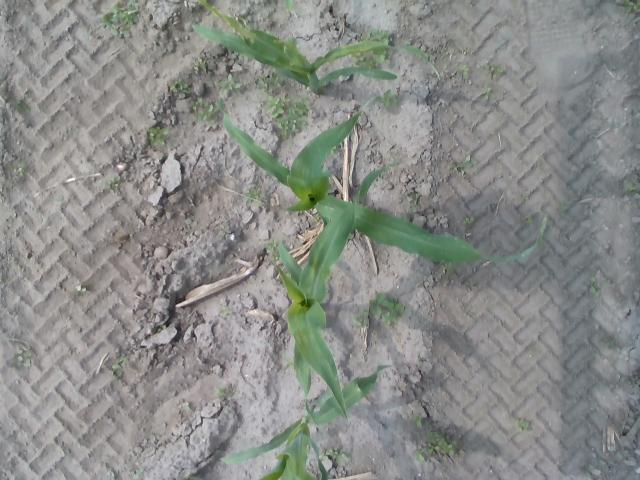Maize: (220, 98, 550, 264), (190, 0, 442, 95), (274, 188, 360, 425), (221, 364, 392, 480), (283, 0, 295, 13)
Weeds: (265, 94, 316, 139), (412, 426, 463, 463), (100, 0, 144, 42), (370, 292, 406, 326), (192, 96, 226, 122), (255, 72, 288, 92), (449, 154, 474, 177), (146, 123, 169, 148), (219, 73, 245, 94), (320, 447, 350, 465), (373, 90, 399, 108), (168, 74, 190, 95), (364, 28, 392, 44), (241, 185, 263, 204), (14, 96, 32, 118), (352, 52, 375, 69), (587, 274, 602, 300), (515, 417, 535, 435), (14, 347, 31, 368), (486, 63, 504, 80), (191, 58, 208, 76), (263, 236, 279, 255), (408, 410, 423, 430), (10, 163, 30, 178), (217, 302, 237, 317), (112, 354, 125, 377), (617, 0, 640, 12), (184, 218, 200, 234), (459, 63, 474, 80), (356, 311, 368, 331), (132, 464, 147, 480), (600, 336, 616, 350), (622, 180, 638, 194), (444, 264, 462, 276), (479, 86, 492, 102), (106, 175, 122, 188), (216, 386, 227, 404), (104, 466, 118, 480), (524, 214, 536, 230), (375, 51, 390, 63), (74, 284, 89, 296), (555, 202, 569, 214), (462, 276, 475, 288), (412, 193, 422, 207), (156, 324, 170, 334), (185, 473, 201, 480), (182, 402, 192, 413), (464, 217, 474, 228), (522, 192, 532, 200)
